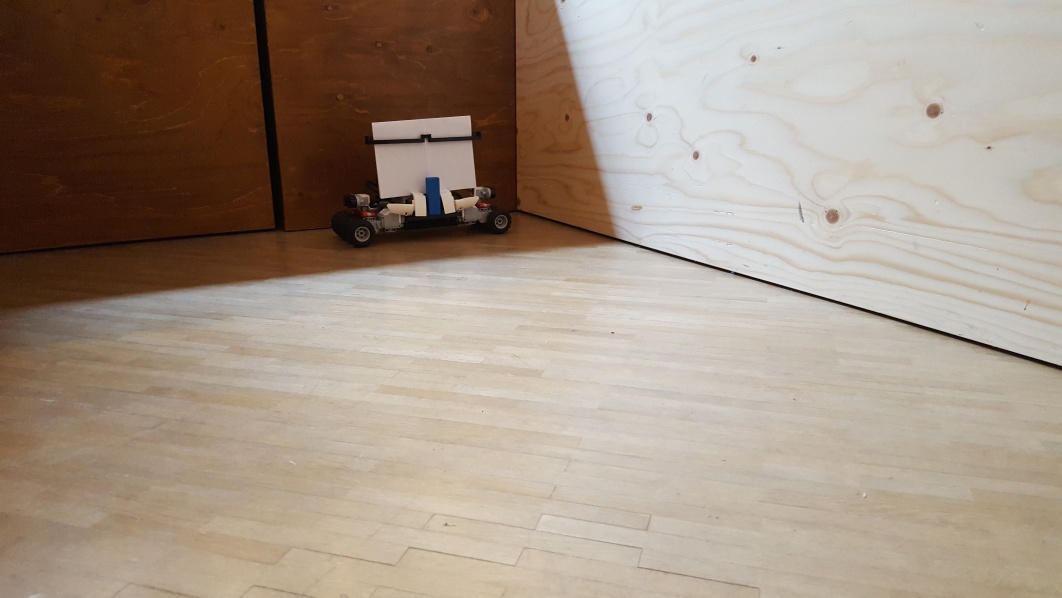car: (331, 115, 511, 247)
